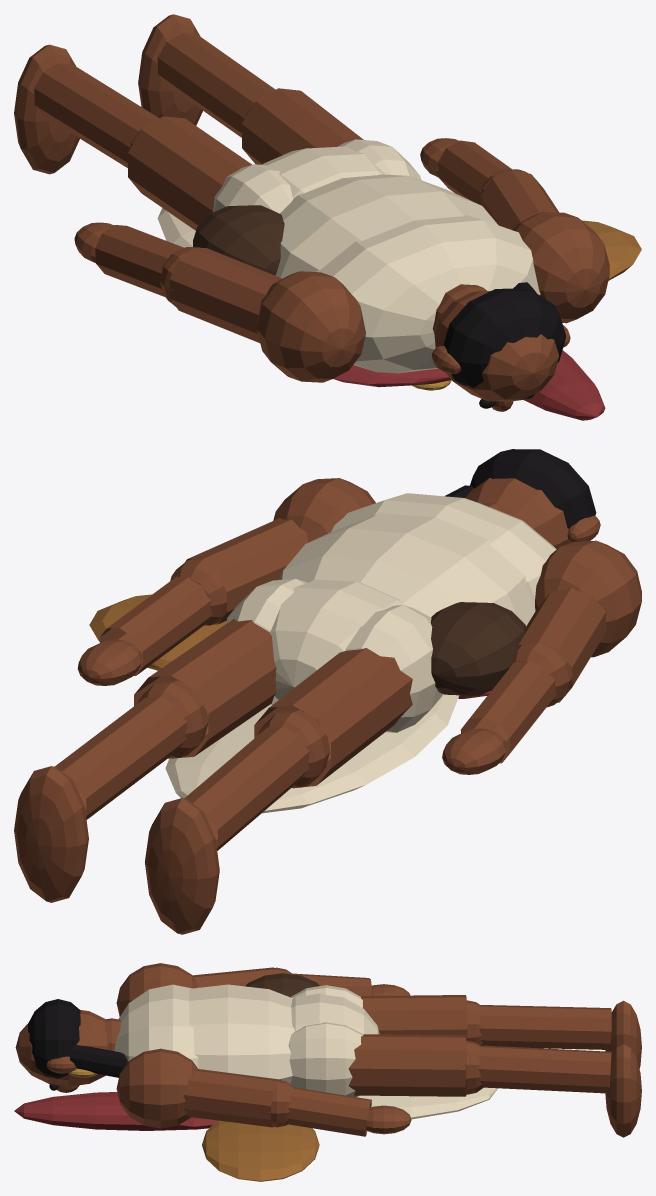
The model's file is meera-devi.obj.
The picture shows the model from 3 angles, top to bottom: view 1: azimuth 30°, elevation 25°; view 2: azimuth 150°, elevation 25°; view 3: azimuth 270°, elevation 25°; orthographic projection. The views are drawn at different scales.
Visible parts, largest first — view 1: MEERA_chest, MEERA_torso, MEERA_shoulder__1, MEERA_thigh__1, MEERA_shoulder_1, MEERA_hair, MEERA_calf__1, MEERA_upper_arm__1, MEERA_calf_1, MEERA_thigh_1, MEERA_head, MEERA_herb_satchel (+16 smaller); view 2: MEERA_torso, MEERA_thigh__1, MEERA_thigh_1, MEERA_sari, MEERA_pelvis, MEERA_calf_1, MEERA_foot__1, MEERA_foot_1, MEERA_calf__1, MEERA_herb_satchel, MEERA_shoulder__1, MEERA_chest (+16 smaller); view 3: MEERA_torso, MEERA_thigh_1, MEERA_manuscript, MEERA_calf_1, MEERA_calf__1, MEERA_shoulder_1, MEERA_chest, MEERA_hip_1, MEERA_upper_arm_1, MEERA_thigh__1, MEERA_pallu, MEERA_forearm_1 (+19 smaller).
Part boxes in pixels (x1,y1,x2,y2): MEERA_chest: (316, 214, 540, 373); MEERA_torso: (275, 174, 498, 278); MEERA_shoulder__1: (256, 271, 365, 382); MEERA_thigh__1: (128, 116, 251, 230); MEERA_shoulder_1: (513, 211, 609, 323); MEERA_hair: (443, 288, 566, 387); MEERA_calf__1: (34, 63, 159, 167); MEERA_upper_arm__1: (169, 248, 282, 342); MEERA_calf_1: (157, 33, 275, 137); MEERA_thigh_1: (242, 88, 363, 164); MEERA_head: (434, 290, 558, 401); MEERA_herb_satchel: (193, 205, 284, 275); MEERA_torso: (278, 513, 535, 626); MEERA_thigh__1: (254, 648, 412, 788); MEERA_thigh_1: (134, 619, 276, 758); MEERA_sari: (165, 694, 459, 813); MEERA_pelvis: (269, 579, 403, 704); MEERA_calf_1: (54, 696, 187, 819); MEERA_foot__1: (145, 798, 219, 934); MEERA_foot_1: (14, 766, 88, 902); MEERA_calf__1: (184, 726, 309, 850); MEERA_herb_satchel: (431, 602, 526, 695); MEERA_shoulder__1: (535, 540, 641, 657); MEERA_chest: (331, 493, 556, 605); MEERA_torso: (189, 984, 294, 1083); MEERA_thigh_1: (348, 1034, 467, 1096); MEERA_manuscript: (202, 1120, 319, 1181); MEERA_calf_1: (478, 1045, 611, 1093); MEERA_calf__1: (479, 1005, 611, 1049); MEERA_shoulder_1: (116, 1048, 197, 1128); MEERA_chest: (114, 984, 198, 1078); MEERA_hip_1: (288, 1022, 362, 1097); MEERA_upper_arm_1: (183, 1069, 281, 1127); MEERA_thigh__1: (360, 995, 467, 1038); MEERA_pallu: (14, 1092, 212, 1130); MEERA_forearm_1: (287, 1087, 371, 1136).
Size of the model in its own units: 1.06 by 0.355 by 1.71.
